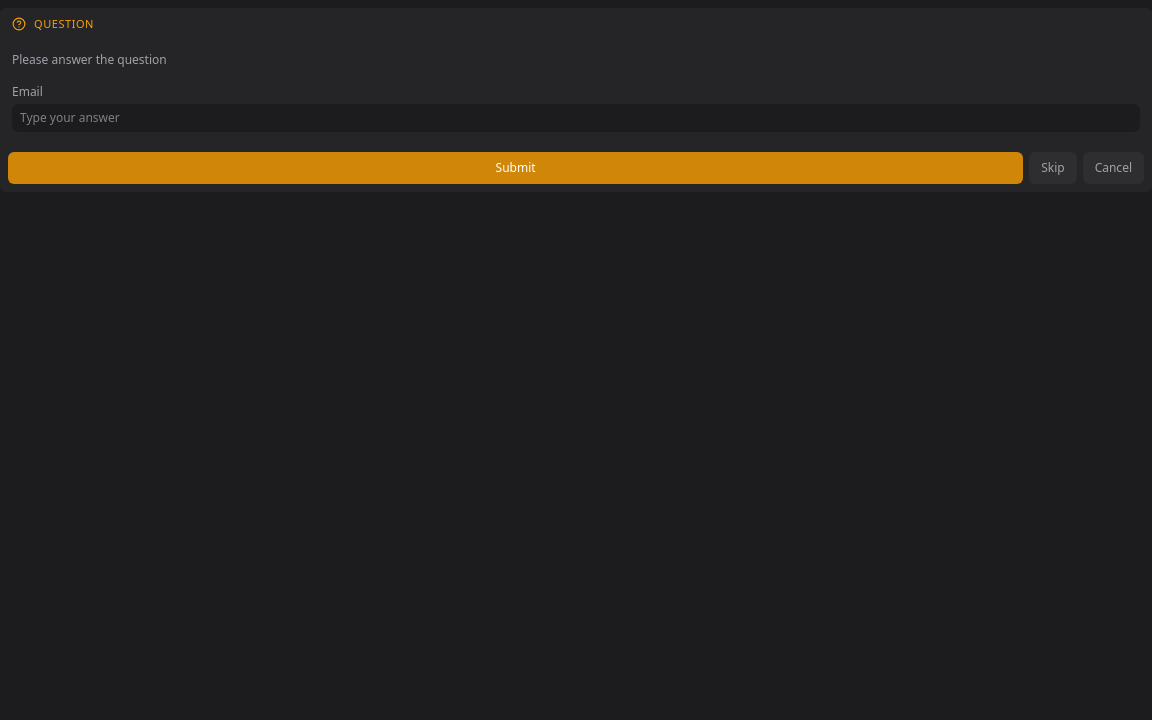
Test: AskUserQuestionCard free_text › validates email format
Type "not-an-email" into the field with placeholder "Type your answer".
click(576, 118); type("not-an-email")  # box [12, 104, 1140, 132]
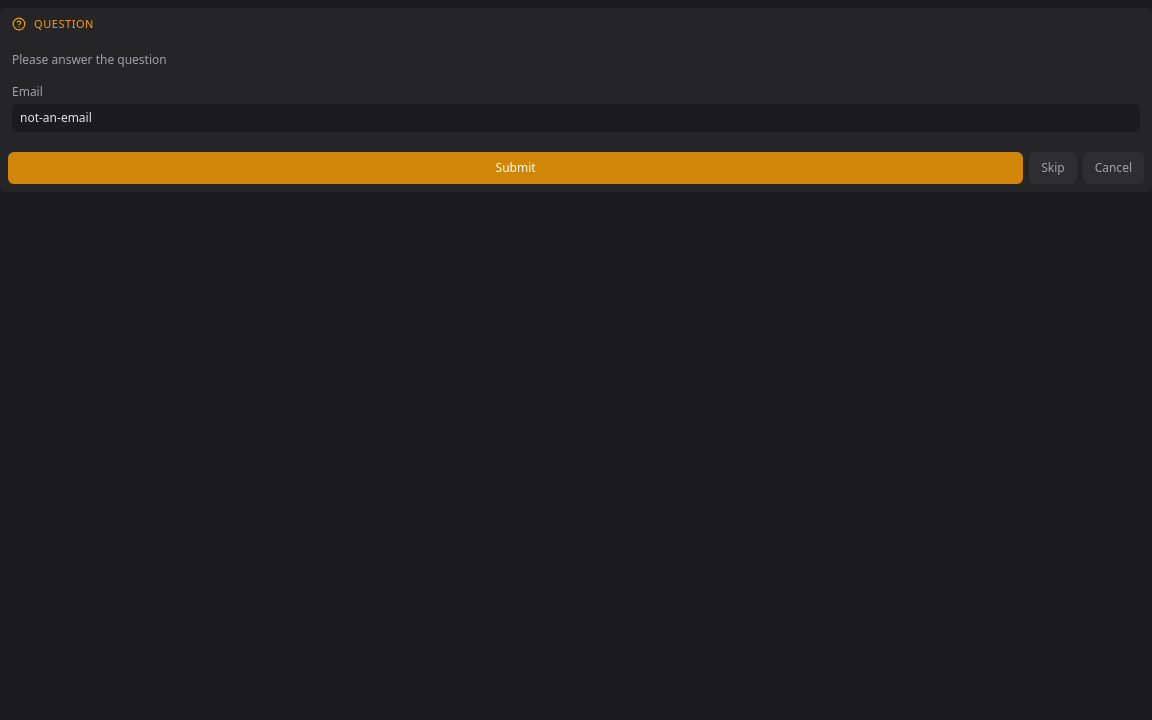
Click the button "Submit".
click(516, 168)  # box [8, 152, 1023, 184]
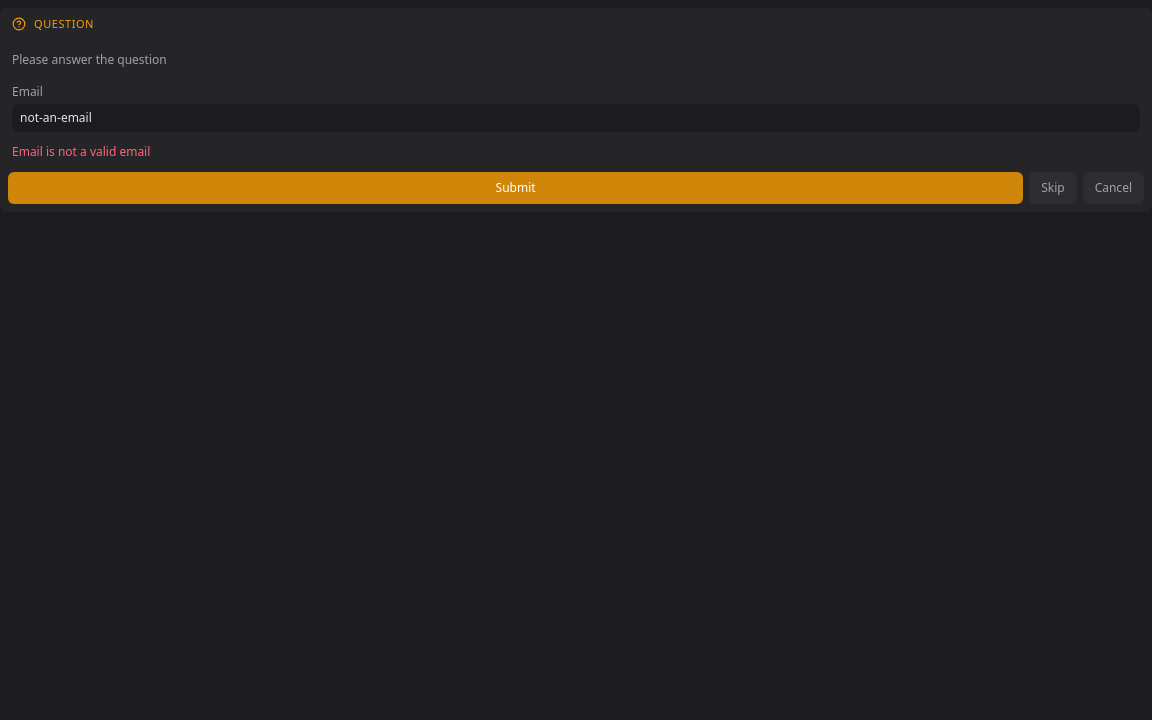
Expected: the text "Email is not a valid email" is shown, [12, 143, 150, 160]
